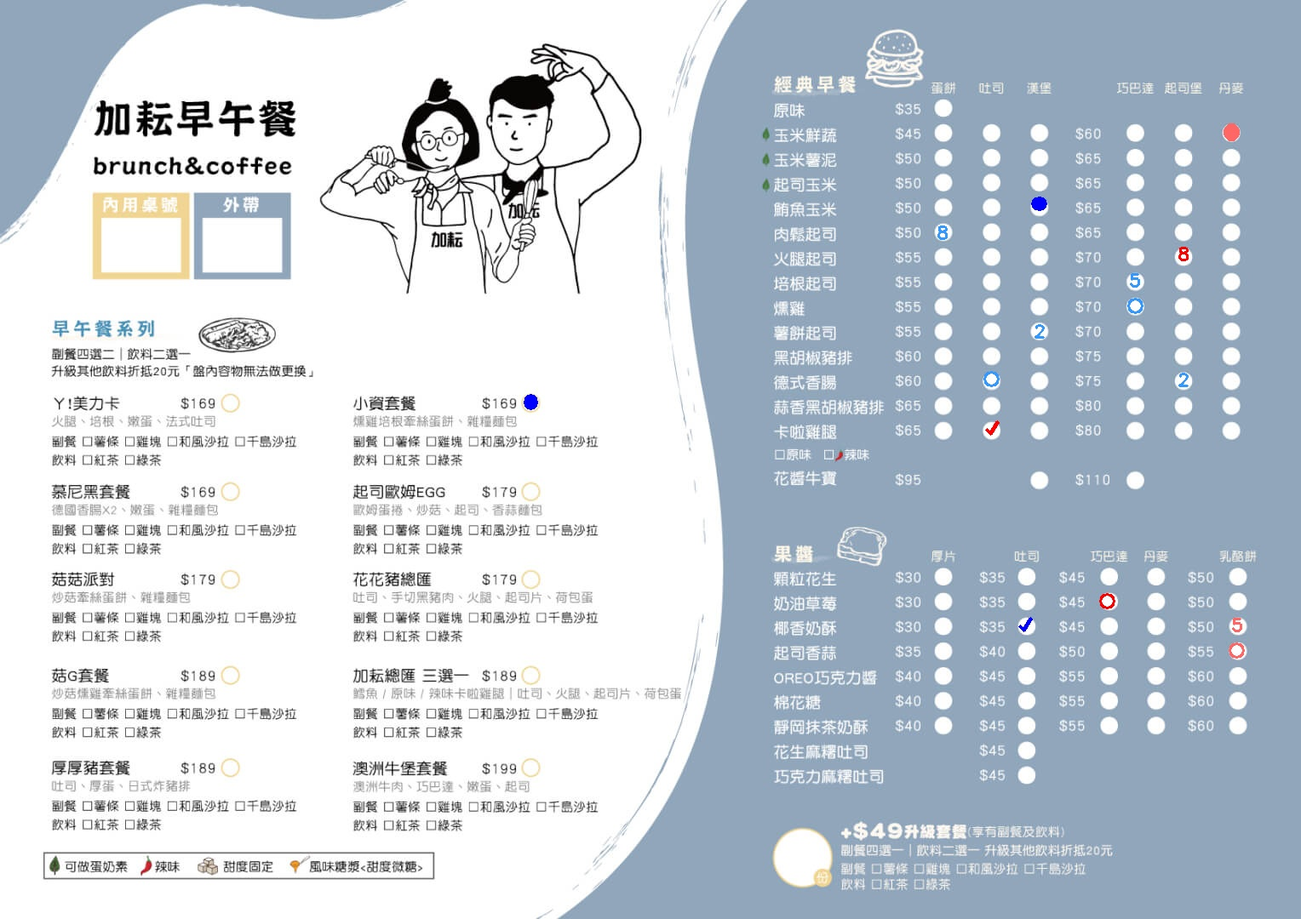marked_circle: (1223, 123, 1241, 143), (522, 393, 539, 411), (1031, 196, 1048, 214)
marked_hollow: (1126, 297, 1143, 315), (983, 370, 1000, 388), (1098, 592, 1115, 610), (1228, 642, 1245, 659)
marked_number_2: (1175, 371, 1192, 389), (1031, 323, 1048, 340)
marked_number_5: (1229, 616, 1246, 634), (1126, 271, 1143, 289)
marked_number_8: (1175, 245, 1192, 263), (934, 224, 951, 242)
marked_tick: (1017, 616, 1034, 634), (983, 420, 1000, 437)
